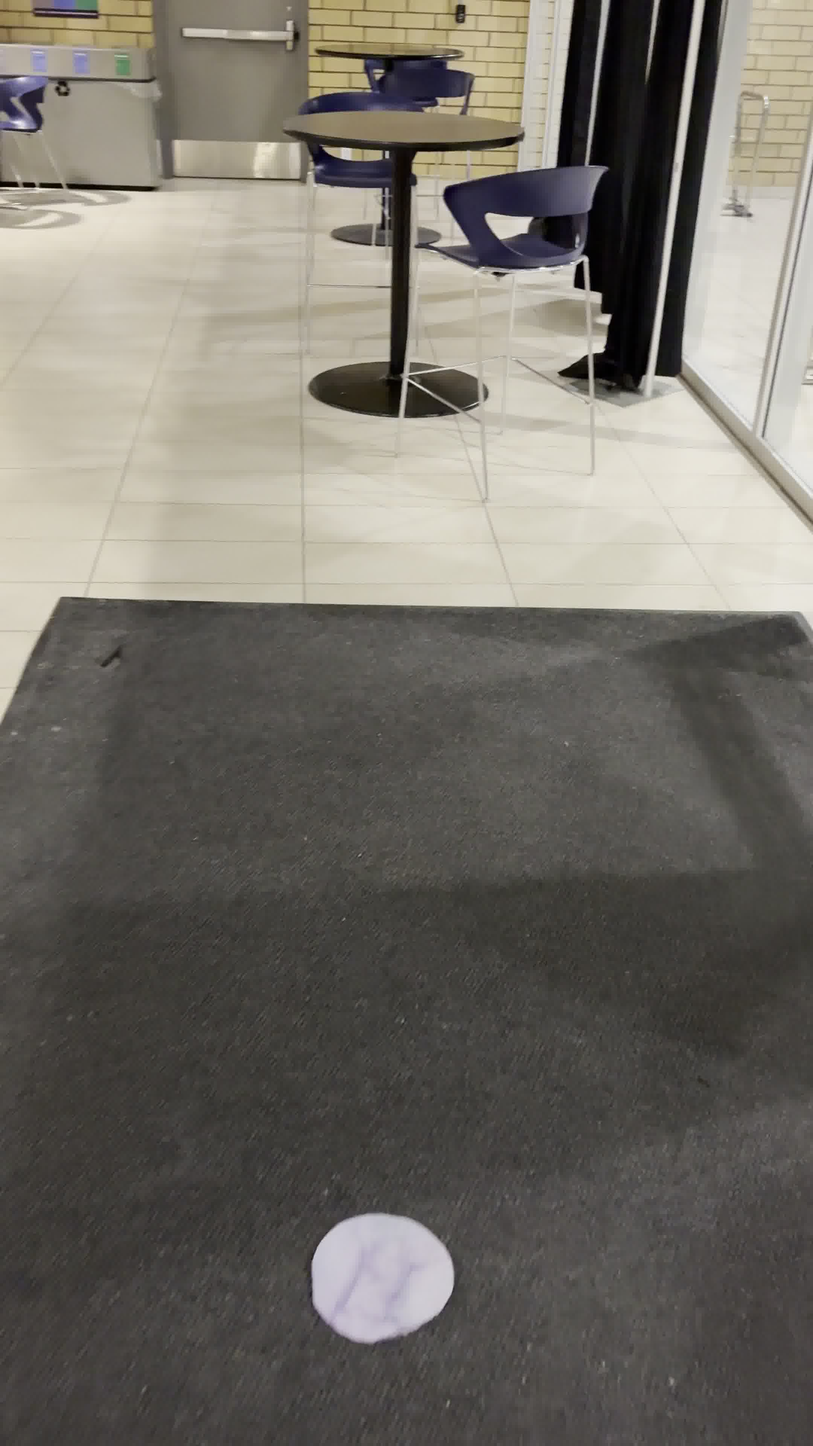Target: (307, 1207, 458, 1348)
